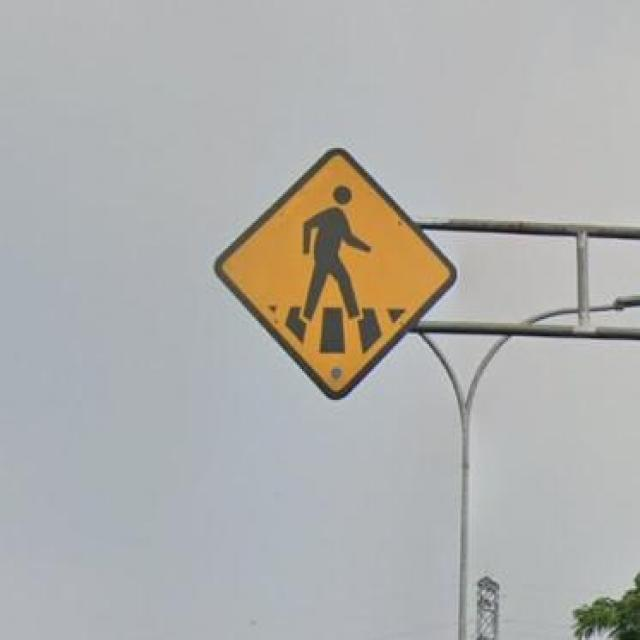traffic sign: (220, 150, 452, 390)
